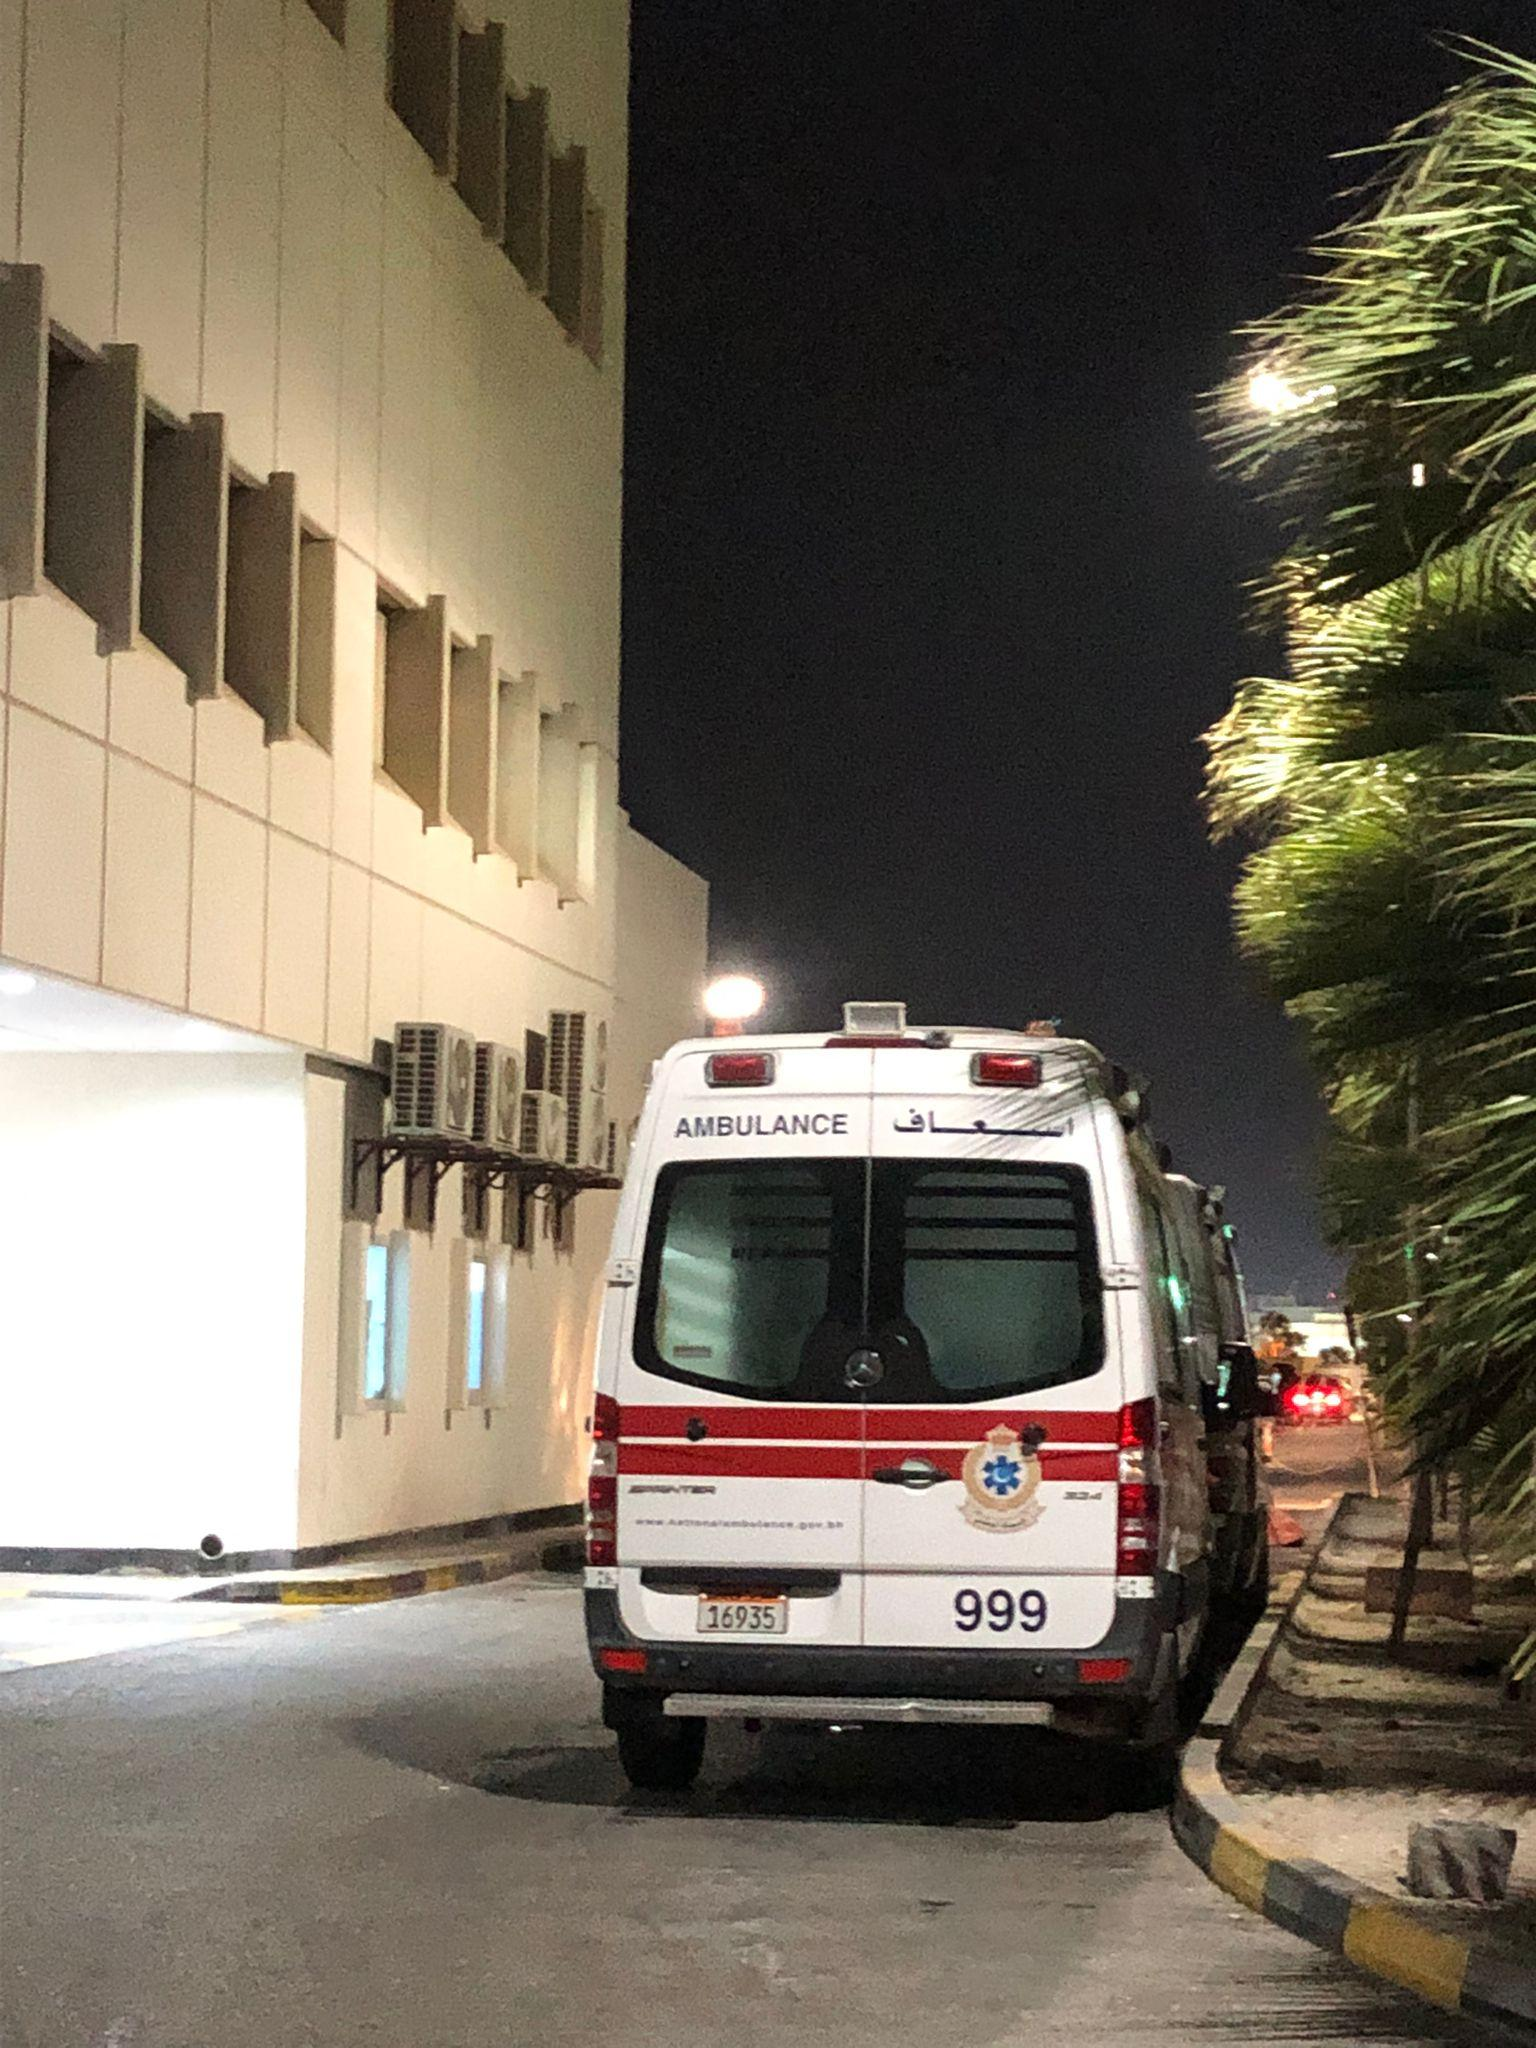ambulance_off: (579, 1000, 1250, 1772)
